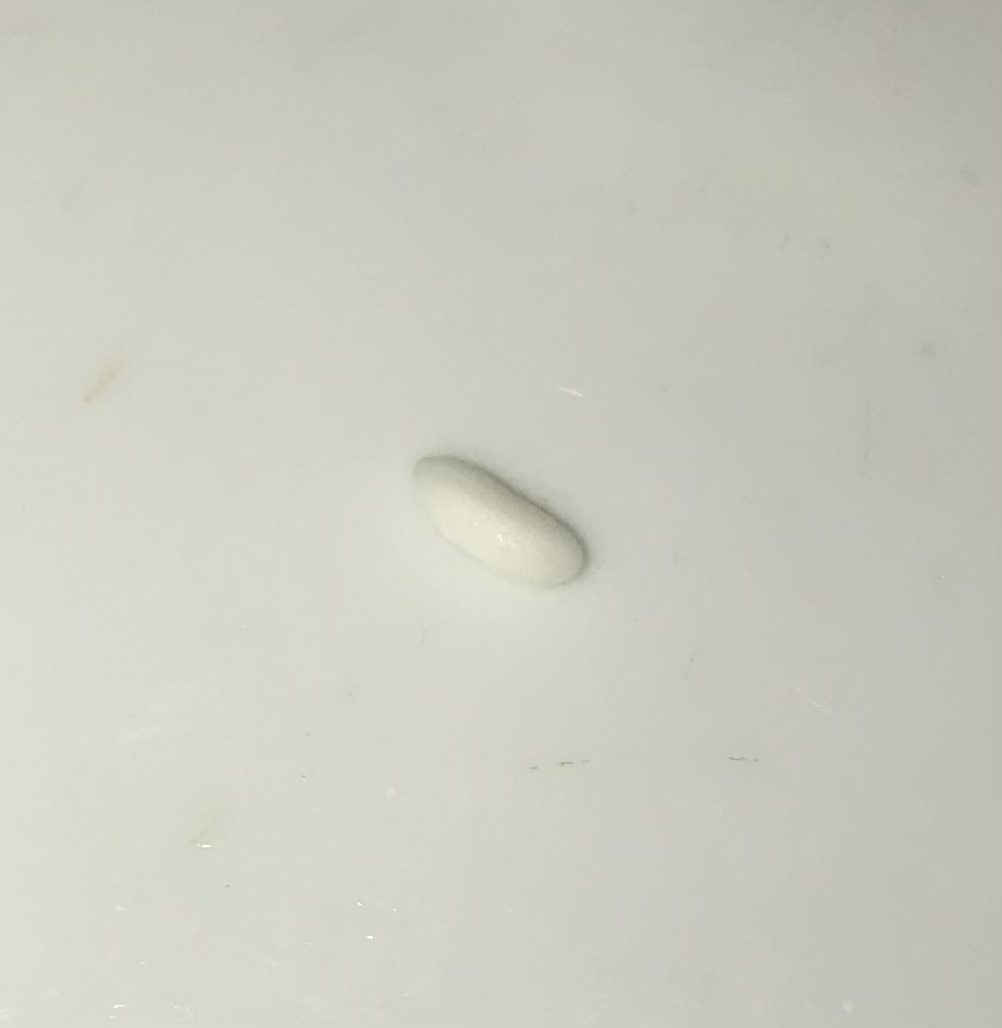Gao Nep Sap: (393, 432, 596, 616)
